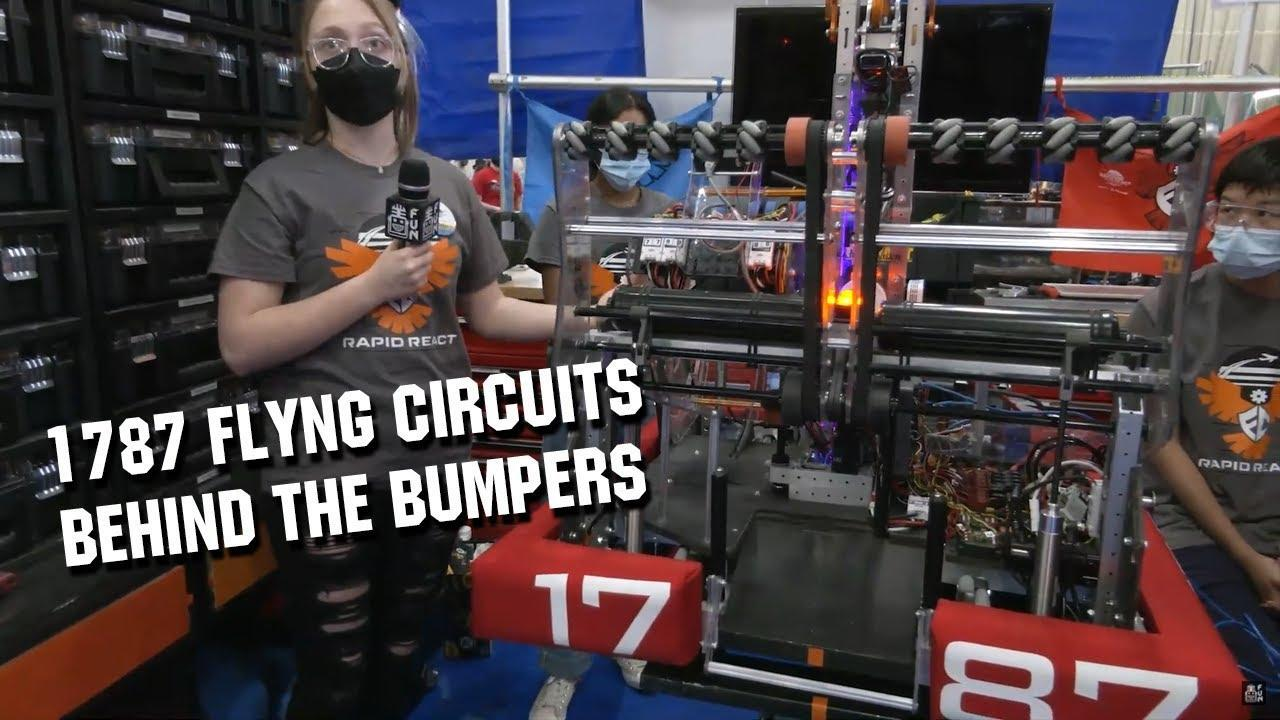robot: (464, 0, 1265, 720)
